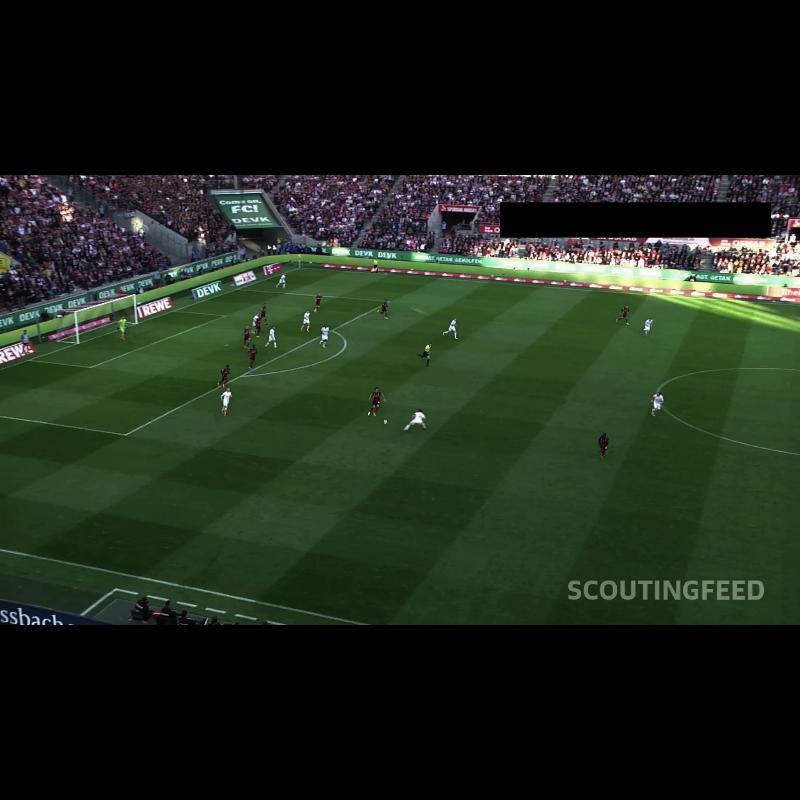cross_recipient_zone: (0, 290, 389, 435)
crossing_player_zone: (0, 416, 296, 577), (238, 267, 541, 313)
pitch: (0, 268, 800, 625)
